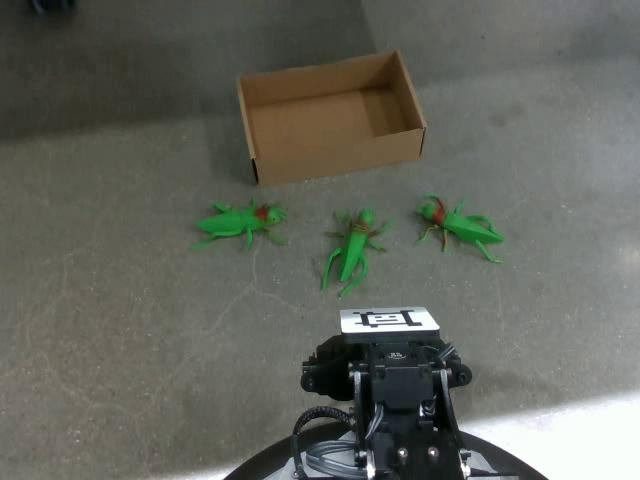box: (236, 48, 428, 186)
grasshopper: (319, 206, 389, 298), (414, 192, 504, 263), (188, 195, 289, 251)
